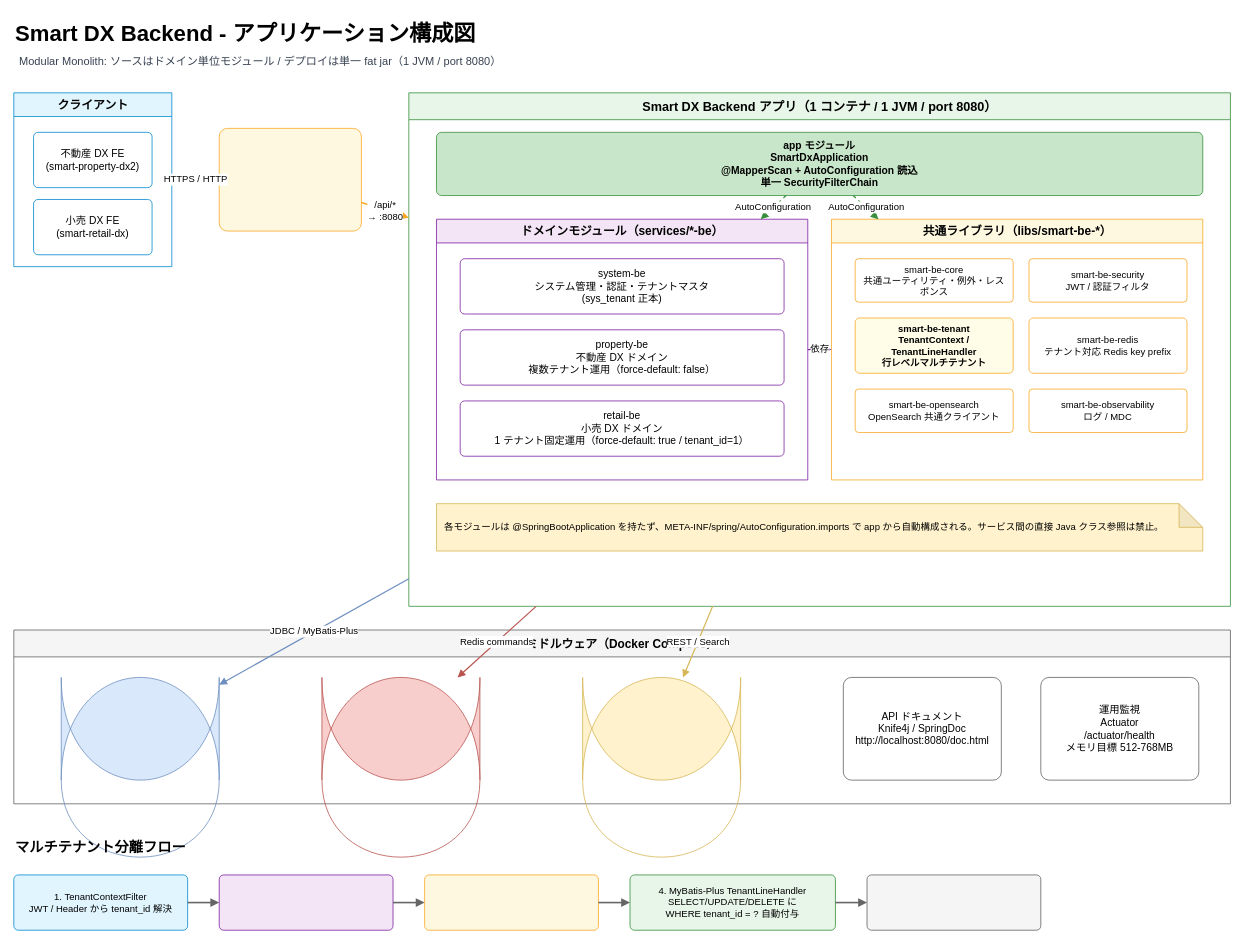
This 1244x944 diagram has some shape labels left out. Here are the shapes that lost their labels. From the top down, the centre of each, then its label:
the point at 289,179: Nginx Reverse Proxy localhost:80
the point at 139,728: MySQL 8.0 port 3306 smart_dx_db retail_db tenant_id カラムで行分離
the point at 400,728: Redis 7 port 6379 認証・キャッシュ 分散ロック {service}:{tenant_id}:{key}
the point at 661,728: OpenSearch 2.11 port 9200 / 9600 全文・属性・ベクトル検索 テナント対応 index
the point at 305,902: 2. TenantContextHolder TransmittableThreadLocal に保持 非同期伝播対応
the point at 511,902: 3. ビジネスロジック実行 Controller / Service / Mapper
the point at 953,902: 5. レスポンス後 TenantContextHolder.clear() クリーンアップ
